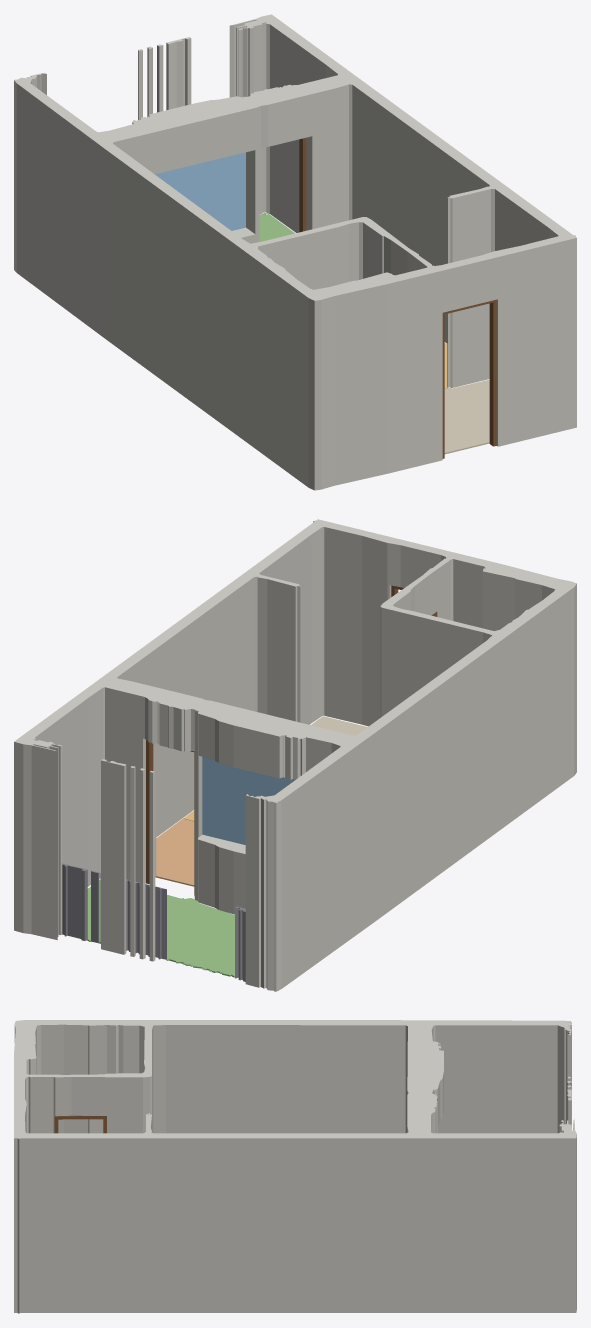
The picture shows the model from 3 angles, top to bottom: view 1: azimuth 30°, elevation 25°; view 2: azimuth 150°, elevation 25°; view 3: azimuth 270°, elevation 25°; orthographic projection. The views are drawn at different scales.
Visible parts, largest first — view 1: walls, window_3, floor_4_Entry, door_2, door_0, floor_0_Outdoor; view 2: walls, railings, floor_0_Outdoor, window_3, floor_2_Living_Room, door_0; view 3: walls.
Part boxes in pixels (<box>): walls: <box>14,14,576,490</box>; window_3: <box>155,152,245,230</box>; floor_4_Entry: <box>444,379,489,454</box>; door_2: <box>442,299,496,458</box>; door_0: <box>299,138,306,232</box>; floor_0_Outdoor: <box>259,212,294,241</box>; walls: <box>14,519,576,991</box>; railings: <box>62,863,245,981</box>; floor_0_Outdoor: <box>69,879,234,977</box>; window_3: <box>202,757,295,844</box>; floor_2_Living_Room: <box>155,818,194,886</box>; door_0: <box>146,740,194,895</box>; walls: <box>14,1020,576,1313</box>.
Bounding box in the file's own units: 3.94 × 2.72 × 7.88.
